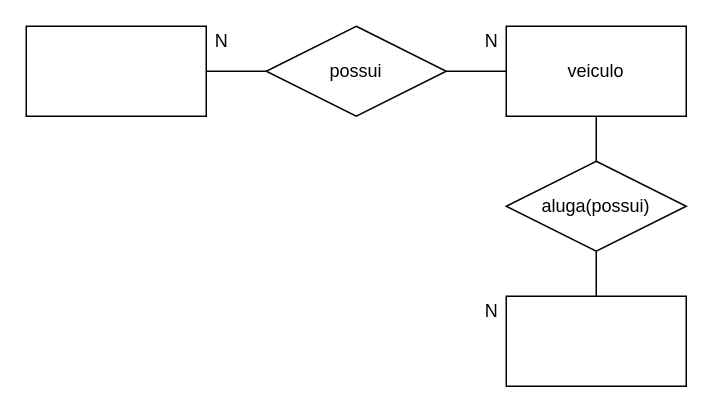
This 713x413 diagram has some shape labels left out. Here are the shapes that lost their labels. From the top down, the centre of each, then its label:
(x=115, y=70): empresa
(x=595, y=340): cliente
